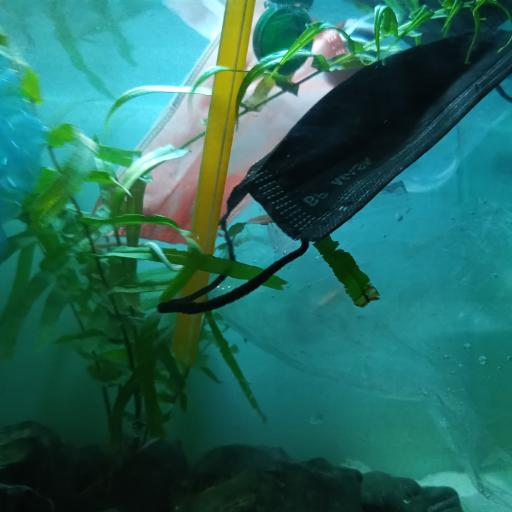bottle_cap: (252, 6, 312, 74)
mask: (160, 28, 512, 314), (93, 6, 359, 245)
plastic_bag: (220, 198, 512, 503), (2, 42, 48, 245)
plastic_cup: (400, 83, 512, 193)
plastic_straw: (168, 0, 256, 365)
